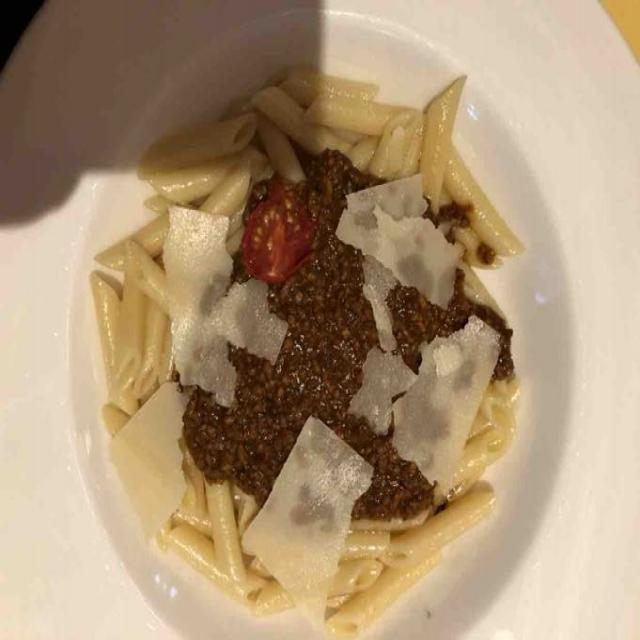bolognaise-sauce: (185, 169, 526, 522)
cheese: (119, 173, 497, 597)
pasta: (102, 76, 515, 601)
